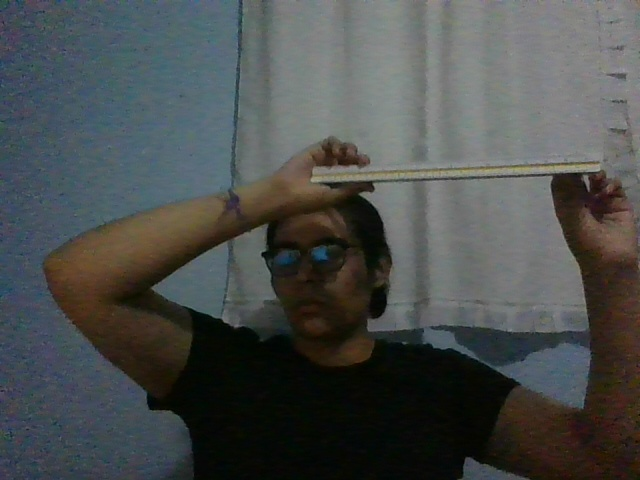regla: (309, 153, 601, 185)
